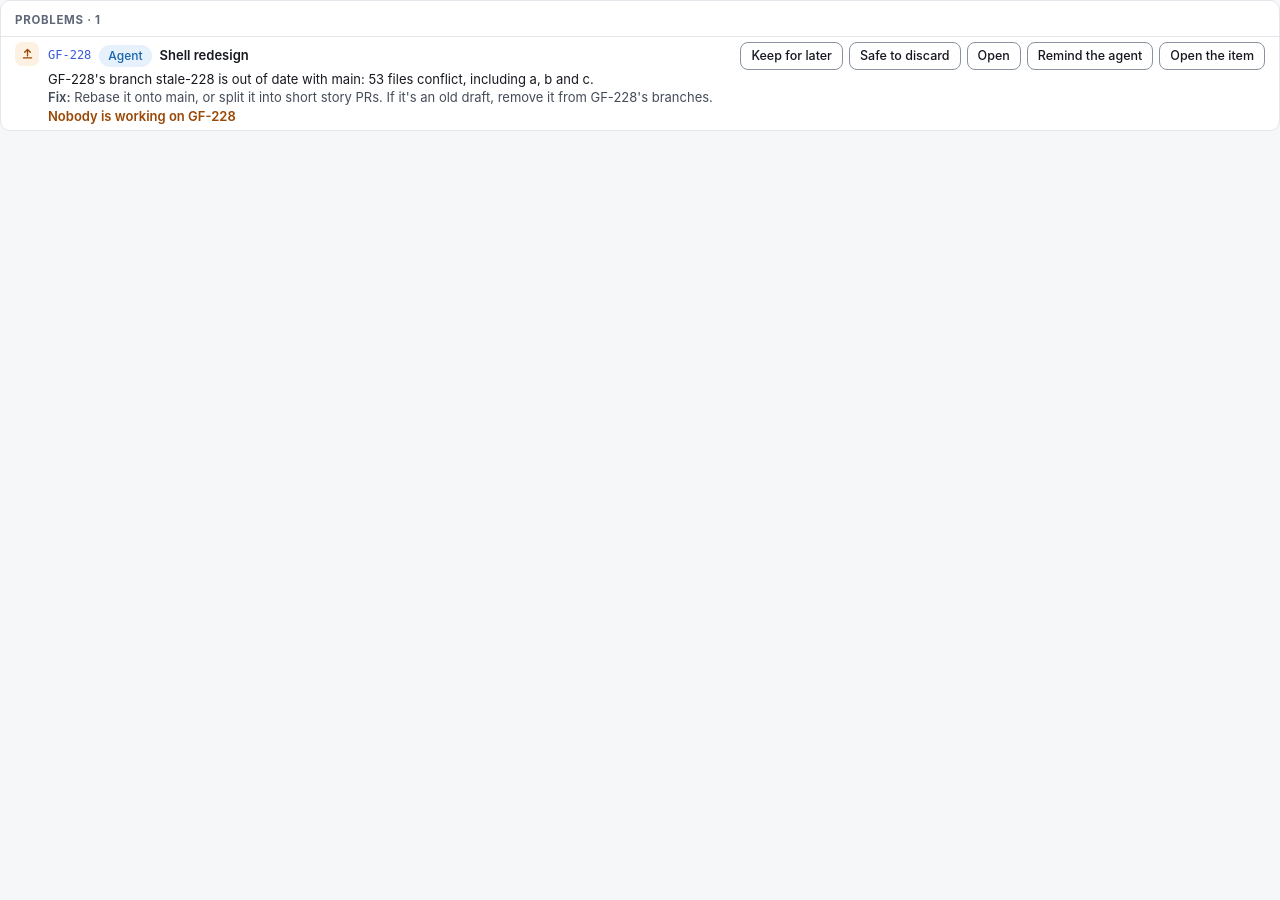
Test: the Problems rows (decision 37) › Keep for later and Safe to discard say what they do before you confirm (decision 41)
The image size is (1280, 900).
What coordinates should you click on to do the following:
click the button "Safe to discard"
I would click on:
 (905, 56)
Its box is [849,42,961,70].
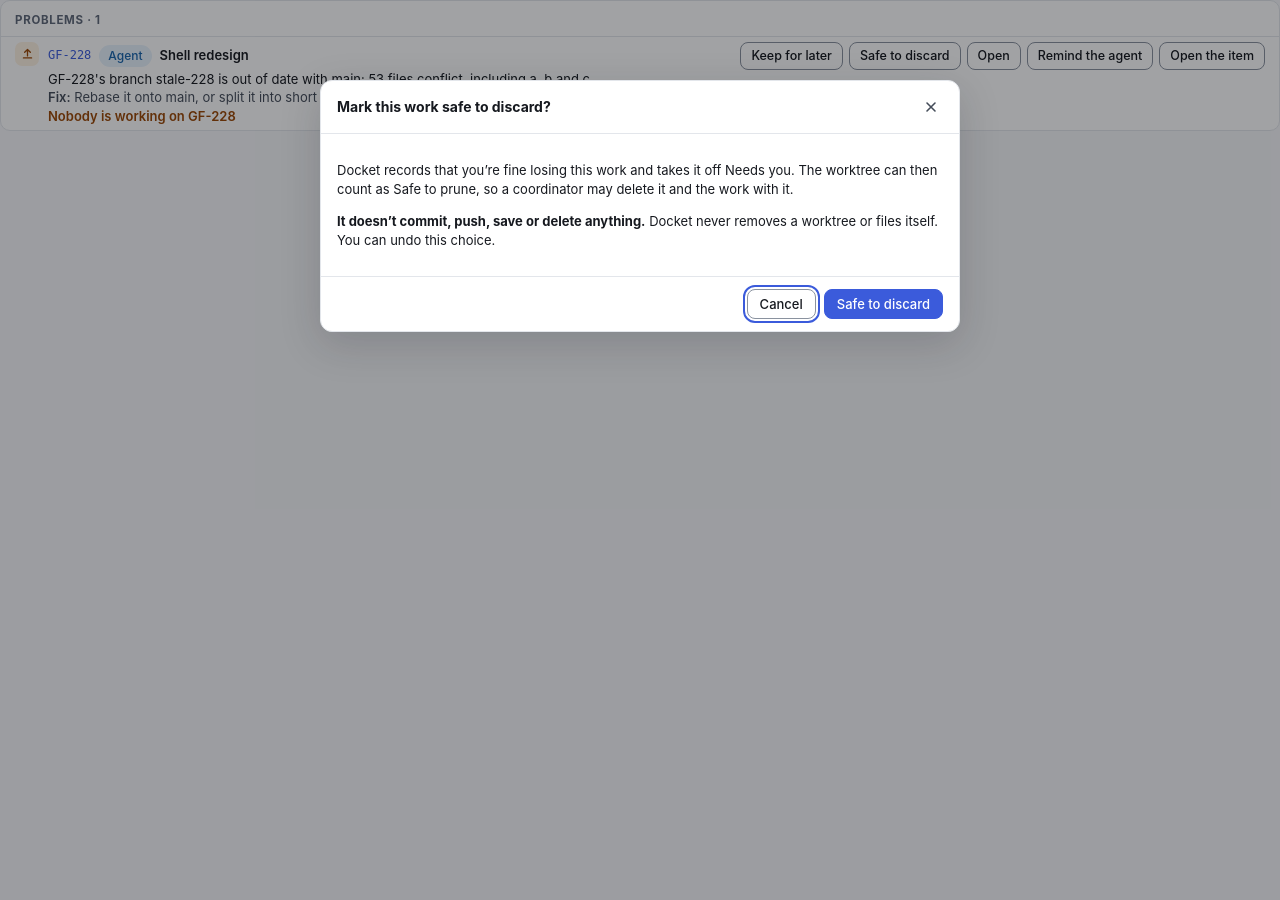
Check: the dialog "Mark this work safe to discard?" shows "can then count as Safe to prune", box [337,162,937,197]
Check: the dialog "Mark this work safe to discard?" shows "It doesn’t commit, push, save or delete anything.", box [337,213,646,229]
What coordinates should you click on to do the following:
click the button "Cancel"
I would click on:
 (781, 304)
Its box is [747,289,816,319].
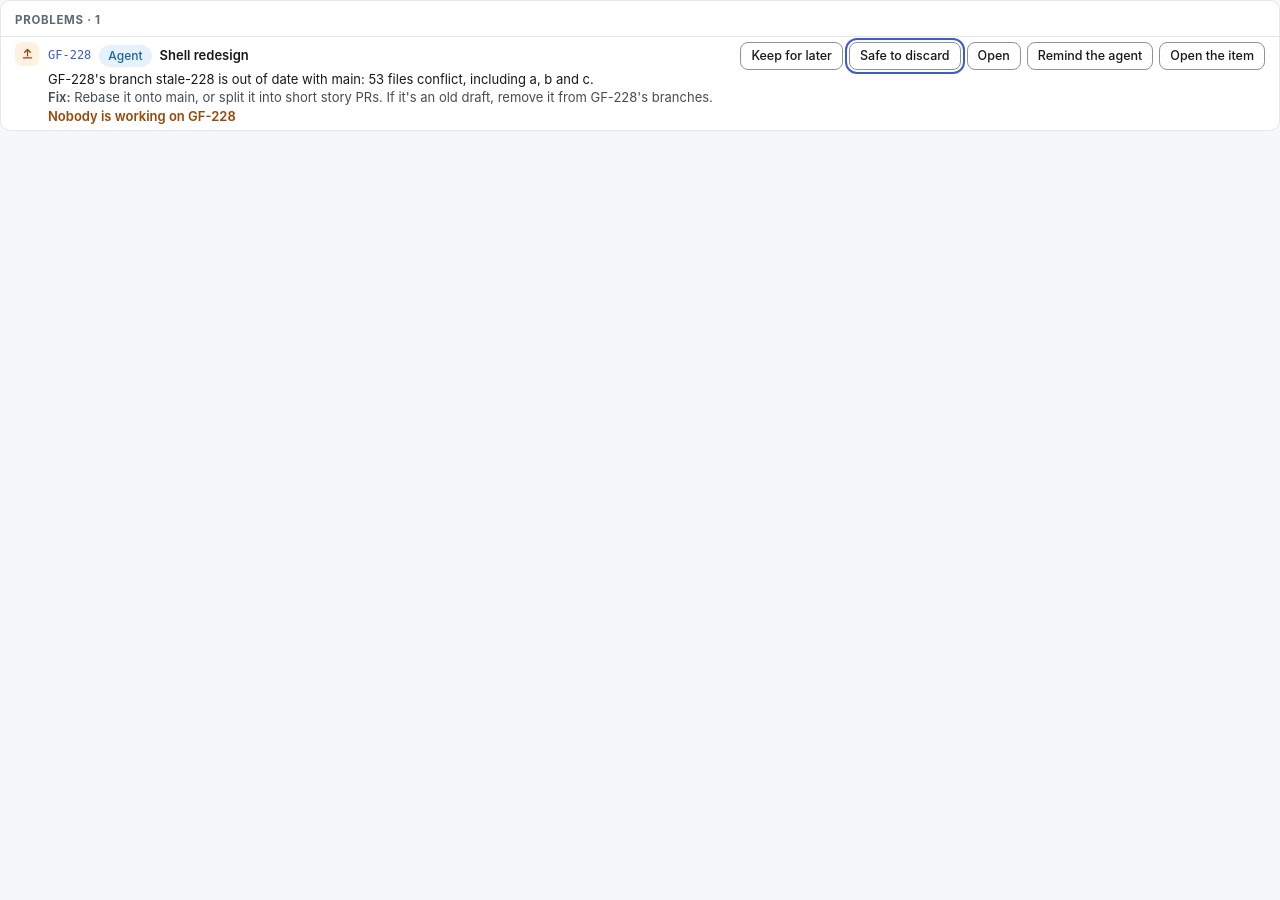
What coordinates should you click on to do the following:
click the button "Keep for later"
I would click on:
 (792, 56)
Its box is [740,42,843,70].
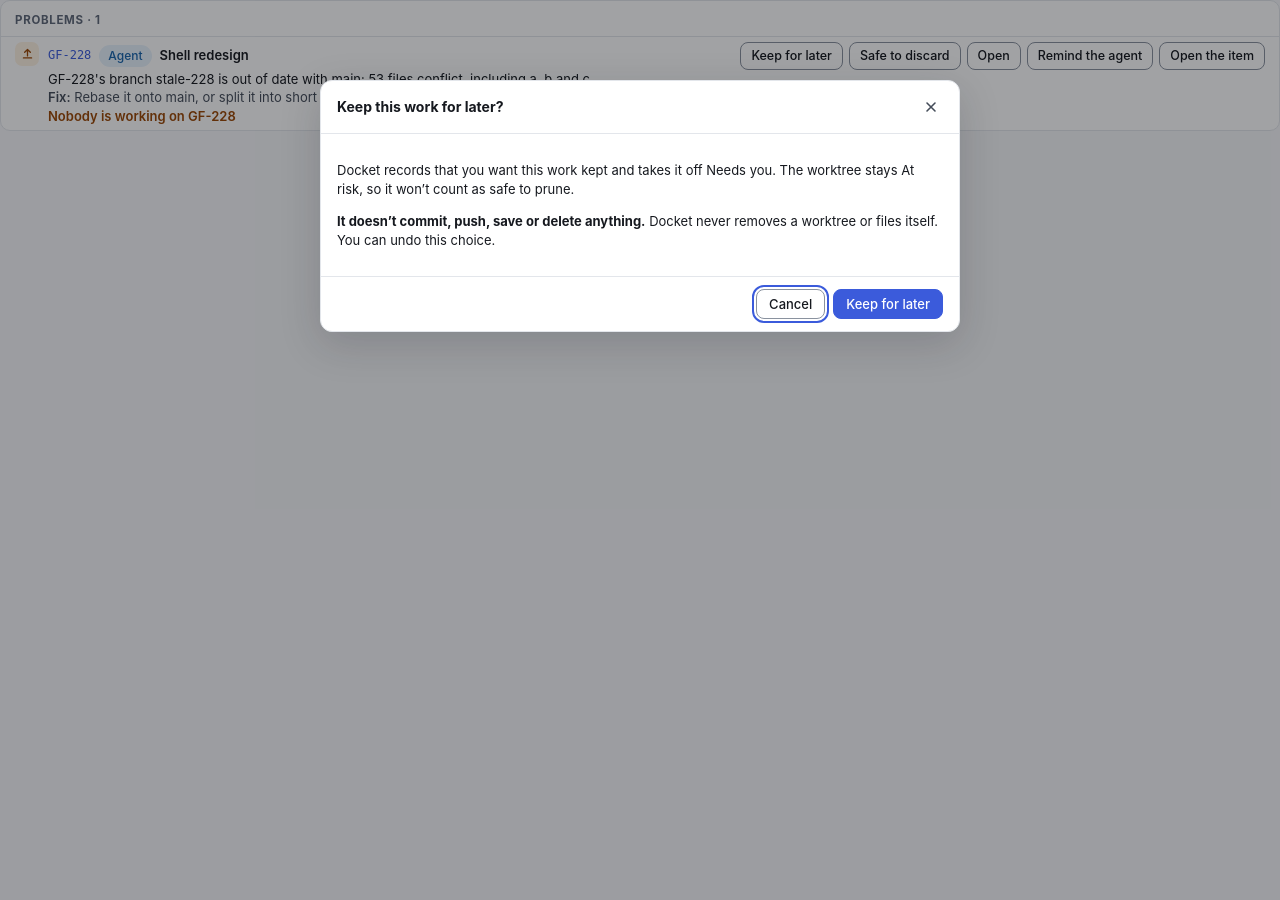
Check: the dialog "Keep this work for later?" shows "The worktree stays At risk", box [337,162,914,197]
Check: the dialog "Keep this work for later?" shows "It doesn’t commit, push, save or delete anything.", box [337,213,646,229]
